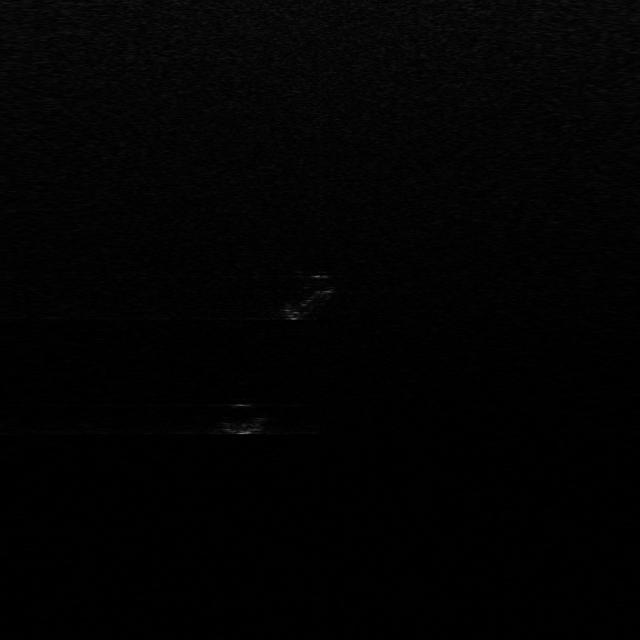ball: (216, 402, 264, 432)
tyre: (287, 271, 333, 319)
